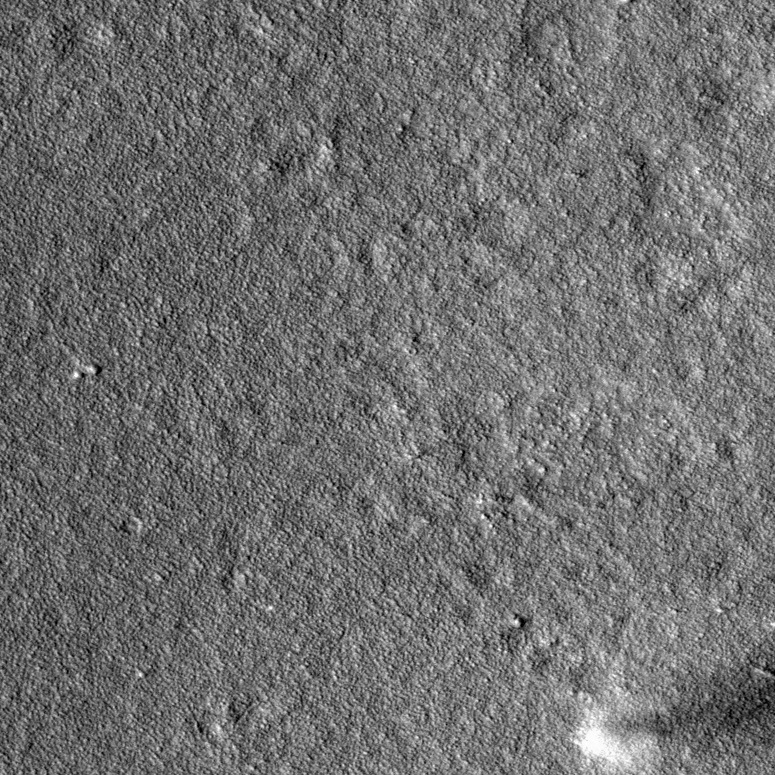dust_devil: (569, 650, 775, 771)
